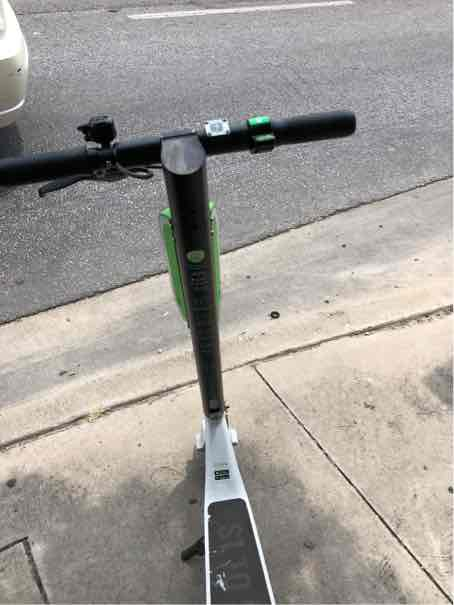scooter: (3, 104, 347, 605)
